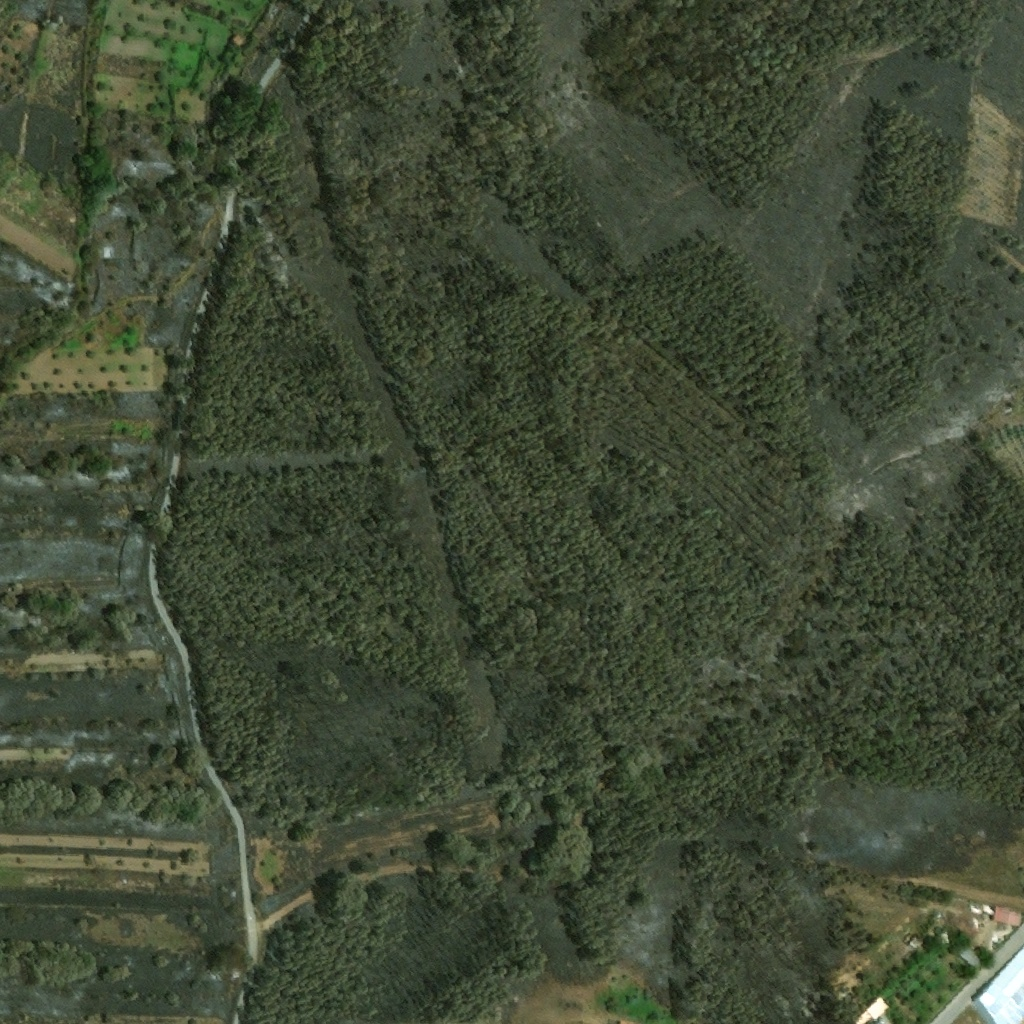0 no-damage: (972, 946, 1023, 1023), (990, 904, 1023, 928), (959, 946, 983, 970), (908, 937, 921, 950), (941, 932, 949, 946)
1 minor-damage: (851, 998, 888, 1023)
